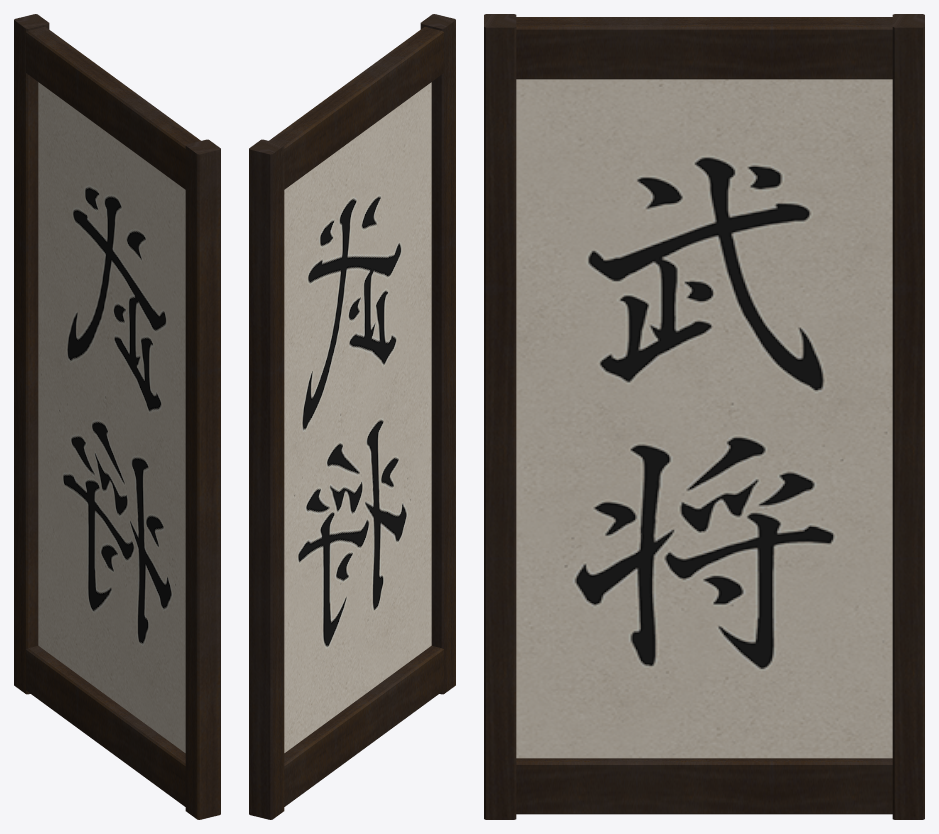
File: ART_07.FBX
The picture shows the model from 3 angles, left to right: view 1: azimuth 30°, elevation 25°; view 2: azimuth 150°, elevation 25°; view 3: azimuth 270°, elevation 25°; orthographic projection. The views are drawn at different scales.
Parts seen in each view (by area): view 1: ART_07; view 2: ART_07; view 3: ART_07.
Boxes of the visible parts, x1=… form: ART_07: x1=14, y1=14, x2=220, y2=819; ART_07: x1=249, y1=14, x2=455, y2=819; ART_07: x1=484, y1=14, x2=924, y2=819.
Bounding box in the file's own units: 2.12 × 57.28 × 28.89.
